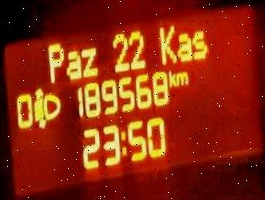0: (145, 115, 166, 158), (15, 92, 32, 128)
1: (76, 85, 84, 118)
2: (127, 29, 146, 70), (110, 31, 129, 72), (81, 126, 99, 169)
3: (102, 123, 121, 166)
5: (127, 119, 146, 160), (117, 75, 134, 111)
6: (134, 72, 151, 109)
8: (83, 80, 100, 118), (151, 70, 168, 107)
9: (99, 77, 118, 115)
X: (158, 24, 176, 64), (47, 41, 64, 83), (79, 45, 98, 77), (191, 28, 208, 60), (176, 31, 192, 62), (65, 50, 81, 81), (120, 128, 128, 156), (175, 70, 188, 86), (167, 69, 176, 87)
